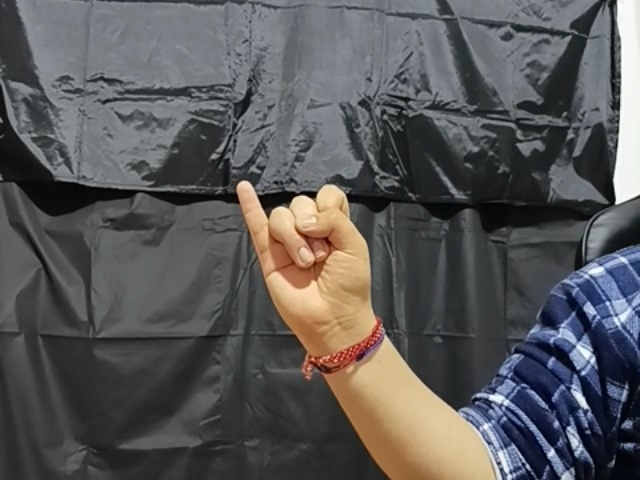I: (236, 181, 381, 326)
